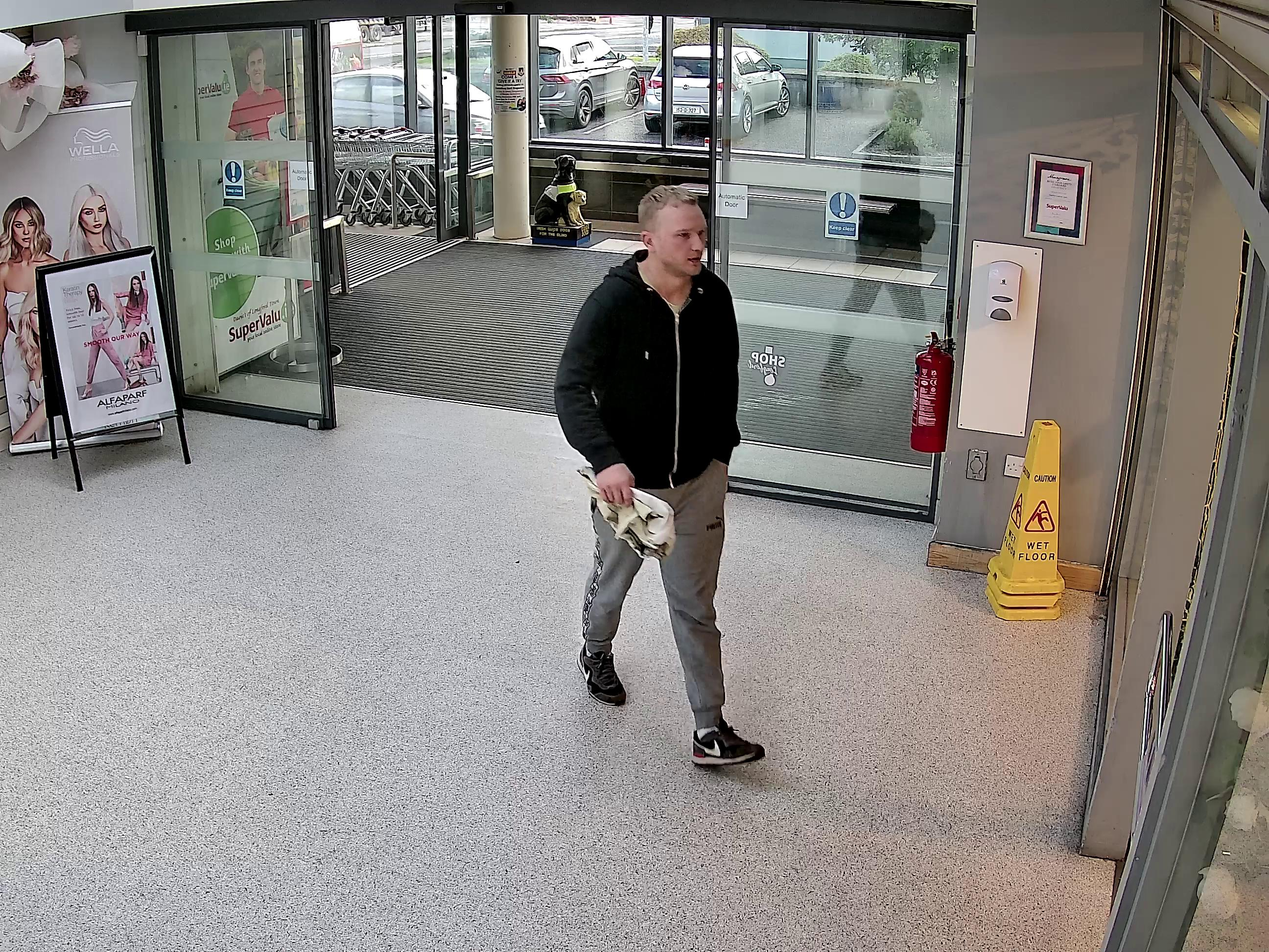empty-shopping-bags: (573, 458, 674, 560)
person: (558, 185, 767, 768)
person-with-empty-shopping-bag-s-: (558, 182, 765, 770)
